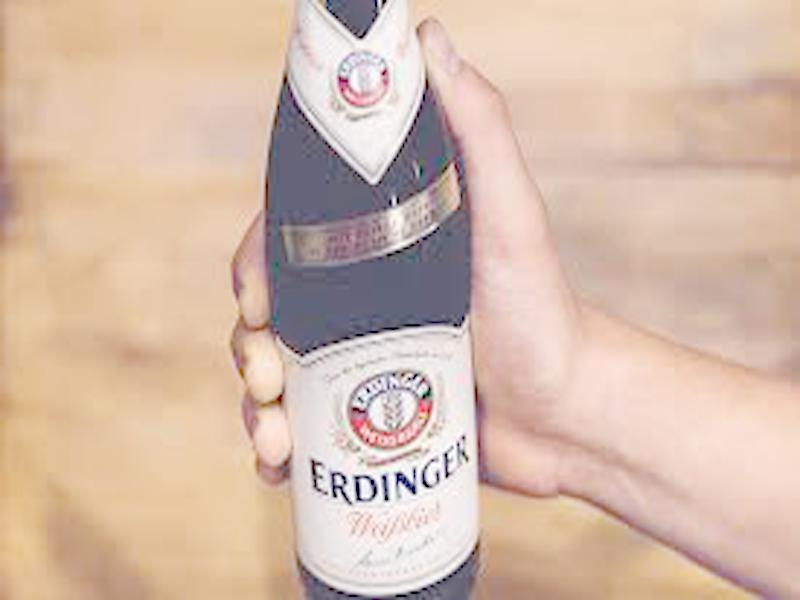Beer: (265, 7, 483, 600)
